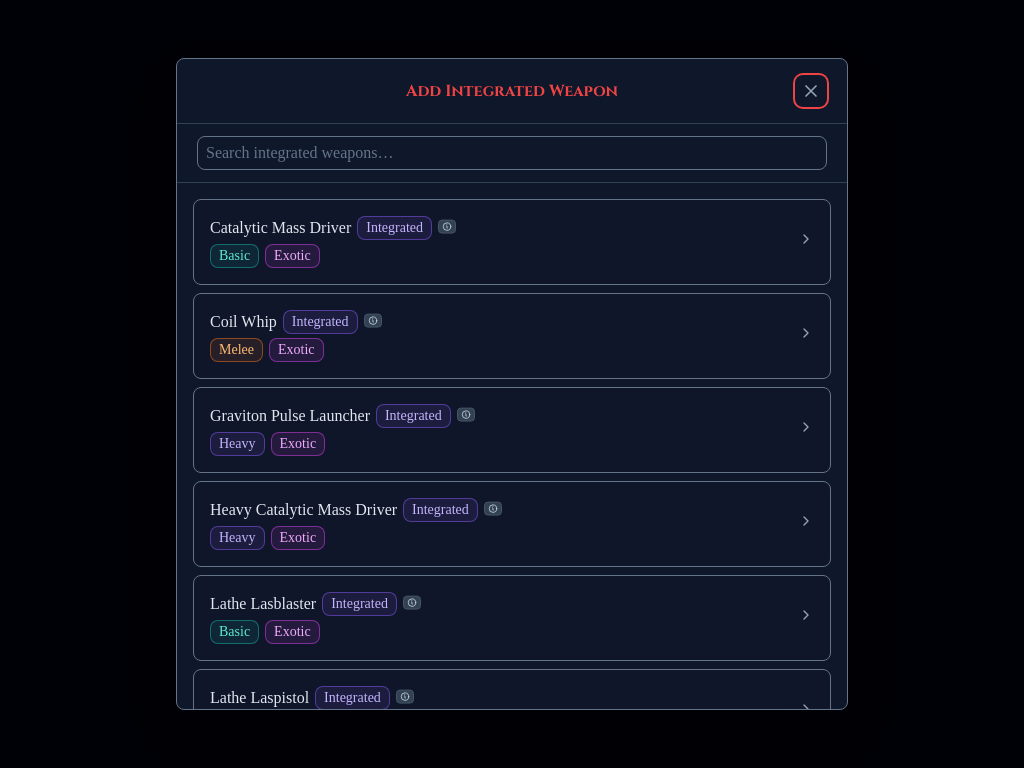
Scenario: IntegratedWeaponPicker cards › uses the given Strength bonus for an opened melee card's total
Click the button named "Expand Coil Whip details" at {"x": 806, "y": 333}, box [794,321,818,345]
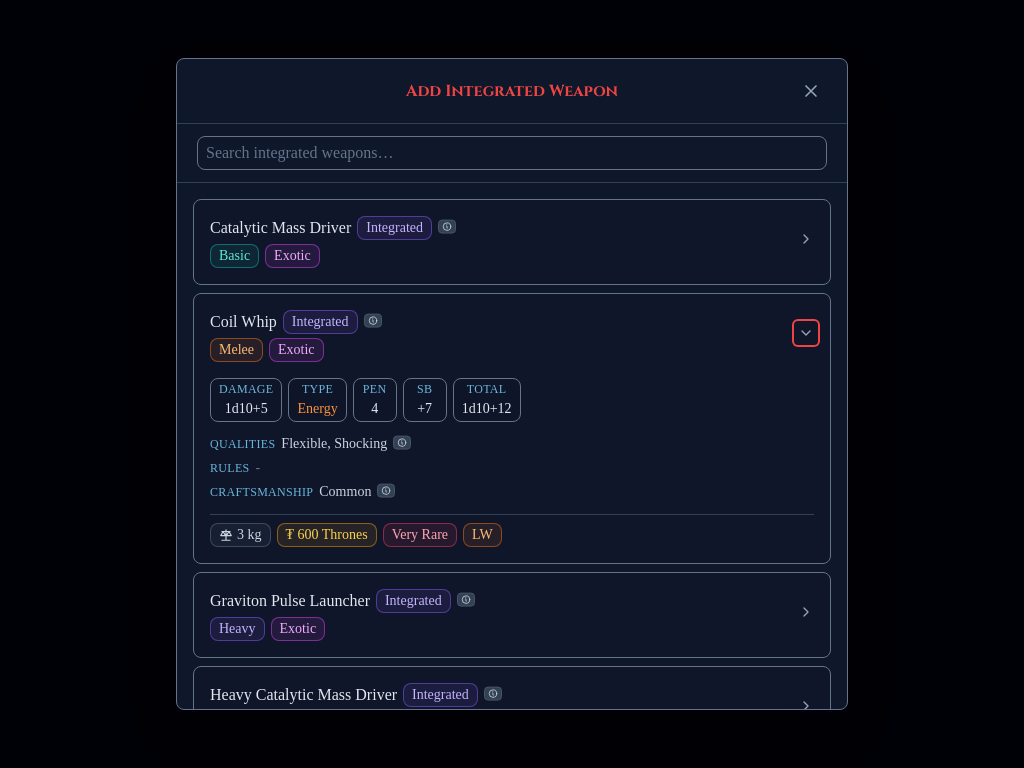
Now the text "+7" is shown, box [417,399,432,419]
